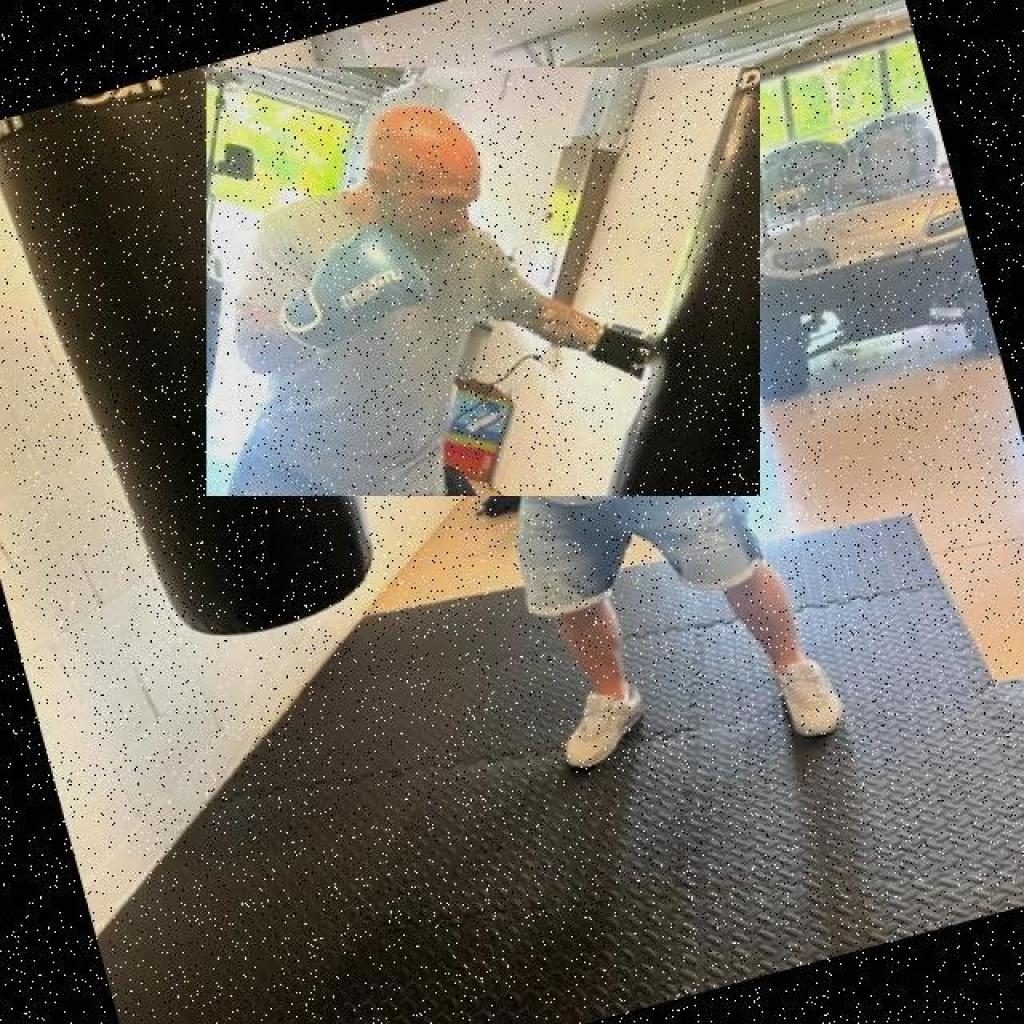hook: (206, 67, 760, 497)
